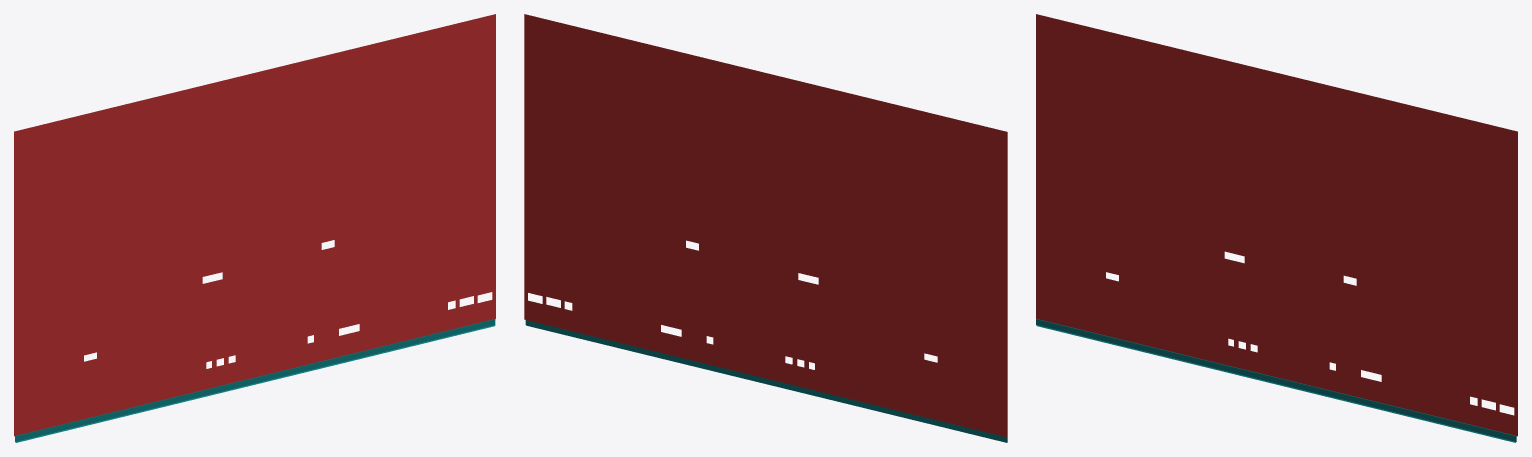
File: SM_Wall_04.fbx
3 views of the same model, side by side, from view 1: azimuth 30°, elevation 25°; view 2: azimuth 150°, elevation 25°; view 3: azimuth 330°, elevation 25° (orthographic).
Parts seen in each view (by area): view 1: SM_Wall_04; view 2: SM_Wall_04; view 3: SM_Wall_04.
Boxes of the visible parts, <box> form: SM_Wall_04: <box>14,14,495,442</box>; SM_Wall_04: <box>524,14,1007,442</box>; SM_Wall_04: <box>1036,14,1517,442</box>.
Size of the model in its own units: 496 by 306 by 1.5.
